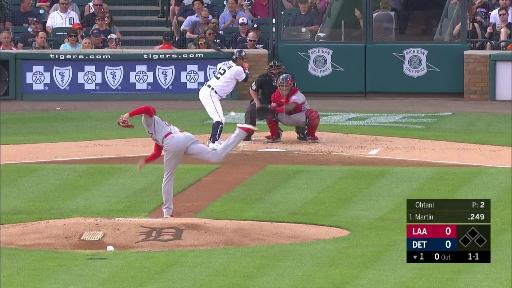pitcher: (115, 104, 259, 217)
